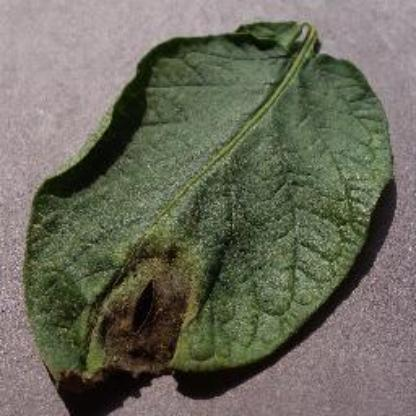Late-Blight: (23, 17, 395, 395)
